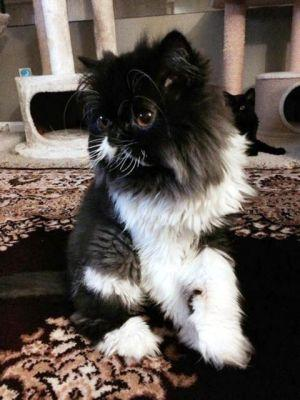persian: (73, 38, 222, 189)
